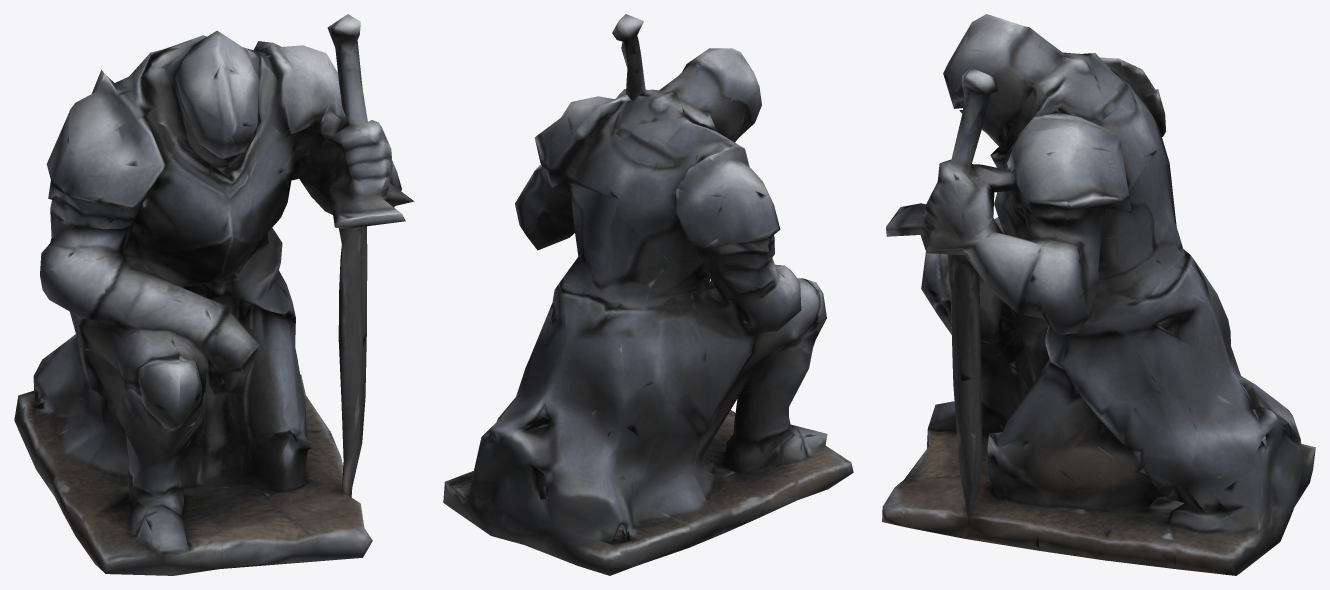
Rendered from guardian_statue_kneeling.glb.
3 renders of one model, left to right at view 1: azimuth 30°, elevation 25°; view 2: azimuth 150°, elevation 25°; view 3: azimuth 270°, elevation 25°, orthographic. The views are drawn at different scales.
Size of the model in its own units: 1.42 by 1.99 by 1.66.
1 material, 1 textured.
